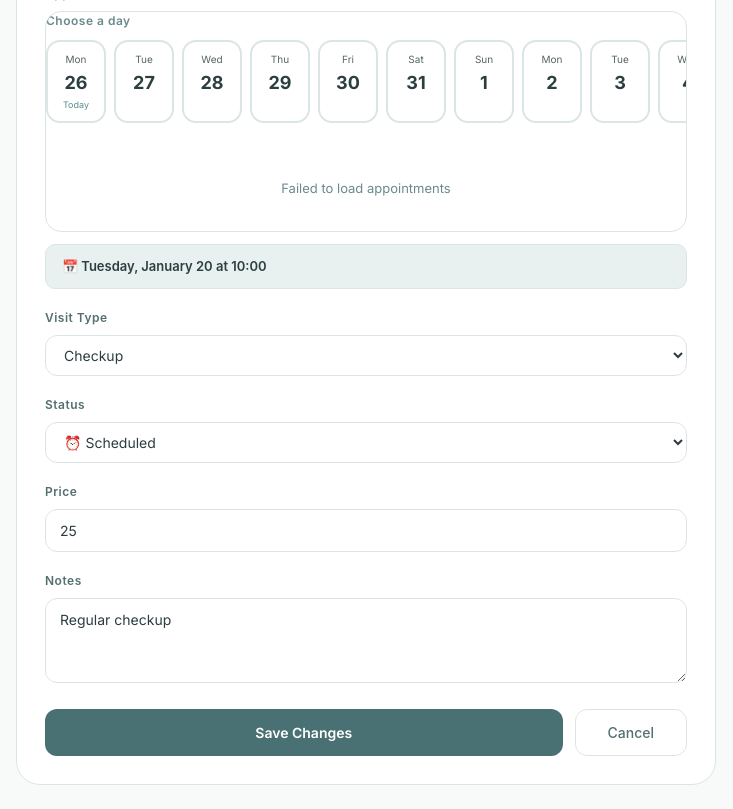
Scenario: EditAppointment › shows the server error message when saving fails
(page scrolled)
Expected: the text box showing "Regular checkup" is shown, [45,598,687,683]
Click the button "Save Changes": (304, 733) [45,709,562,756]
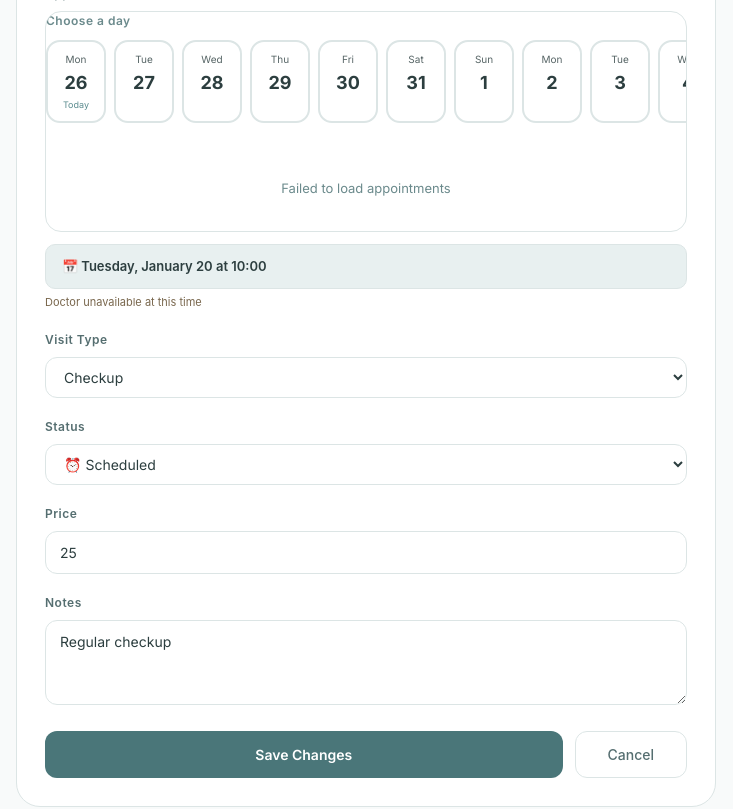
Expected: the text "Doctor unavailable at this time" is shown, [45,295,202,309]
